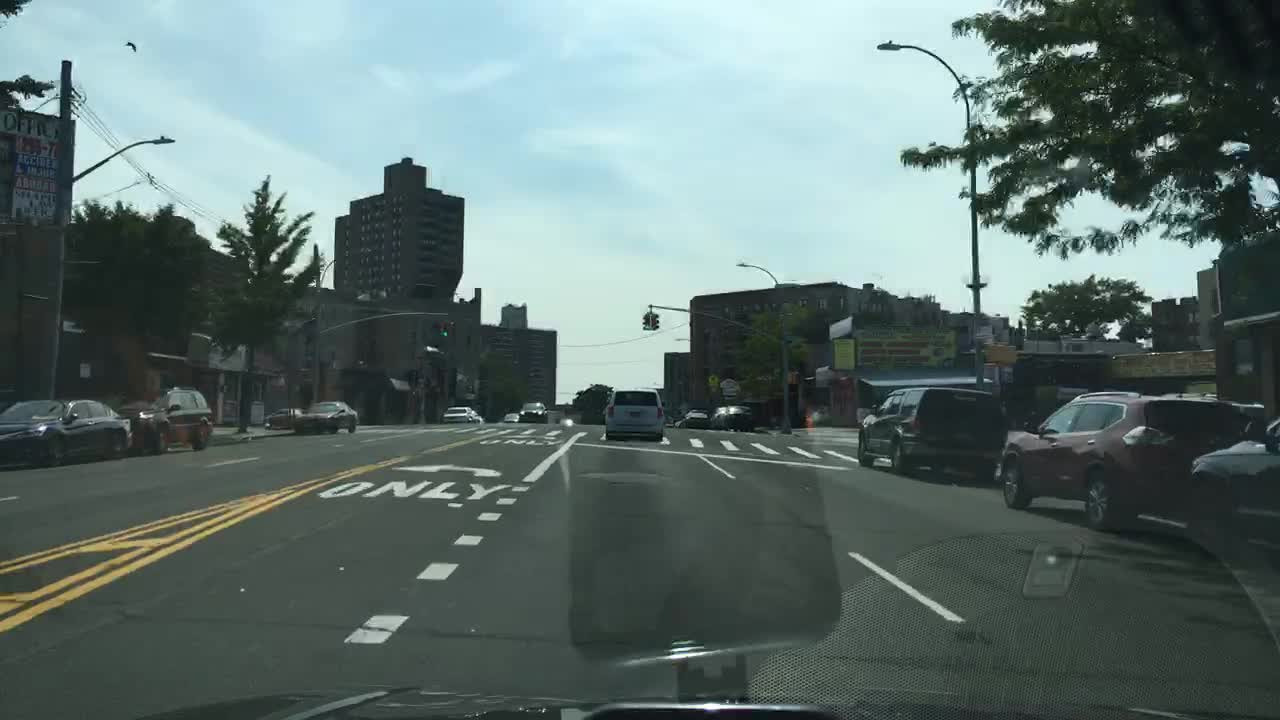car: (998, 390, 1254, 531), (855, 384, 1010, 477), (1191, 414, 1278, 537), (0, 397, 134, 471), (114, 385, 214, 454), (604, 387, 666, 441), (293, 401, 356, 434), (262, 406, 305, 429), (722, 405, 756, 431), (519, 400, 549, 424), (683, 406, 712, 429), (441, 405, 476, 423), (710, 404, 728, 427), (502, 411, 520, 423), (670, 417, 689, 427), (558, 415, 575, 426), (471, 409, 481, 421), (473, 415, 484, 424)
traffic light: (982, 341, 1016, 363), (649, 312, 662, 329), (640, 312, 652, 329), (440, 319, 450, 338), (787, 369, 799, 384)
traffic sign: (718, 376, 741, 395), (707, 373, 718, 389)
